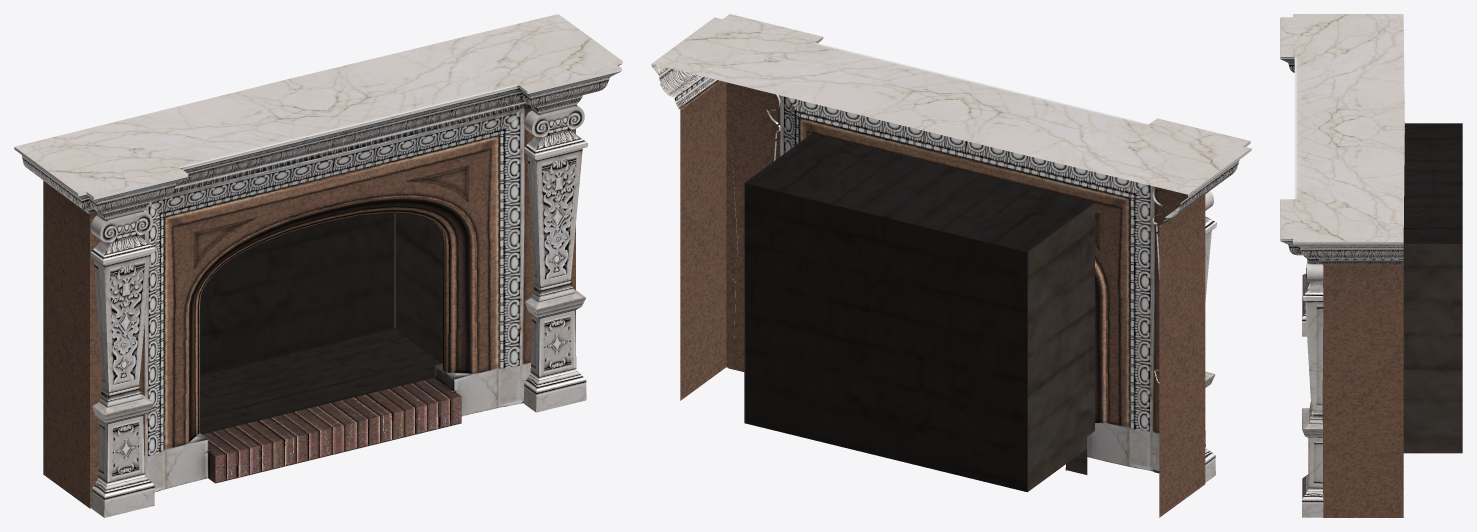
File: Fireplace01.FBX
3 renders of one model, left to right at view 1: azimuth 30°, elevation 25°; view 2: azimuth 150°, elevation 25°; view 3: azimuth 270°, elevation 25°, orthographic. The views are drawn at different scales.
Visible parts, largest first — view 1: Fireplace01; view 2: Fireplace01; view 3: Fireplace01.
Part boxes in pixels (left/top/right/bottom): Fireplace01: left=14, top=14, right=622, bottom=517; Fireplace01: left=651, top=14, right=1251, bottom=517; Fireplace01: left=1280, top=14, right=1462, bottom=517.
Bounding box in the file's own units: 341 × 115 × 200.
